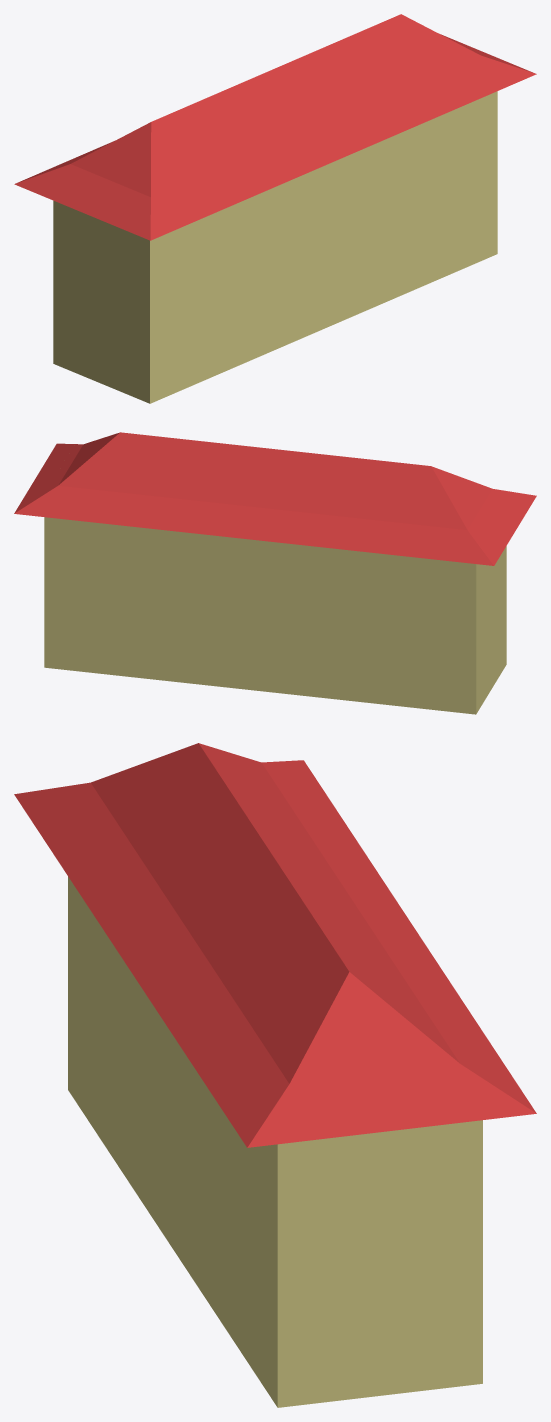
The picture shows the model from 3 angles, top to bottom: view 1: azimuth 30°, elevation 25°; view 2: azimuth 150°, elevation 25°; view 3: azimuth 270°, elevation 25°; orthographic projection. The views are drawn at different scales.
Bounding box in the file's own units: 20.91 × 11.92 × 9.55.
